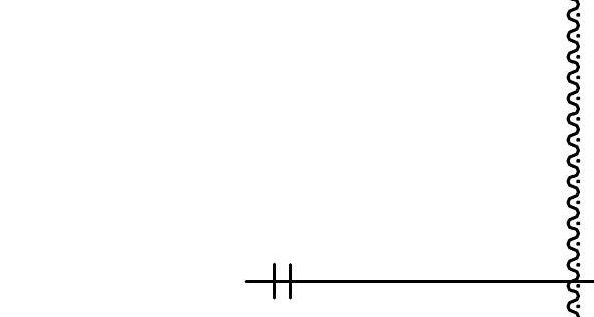115_buffer: (273, 263, 292, 300)
